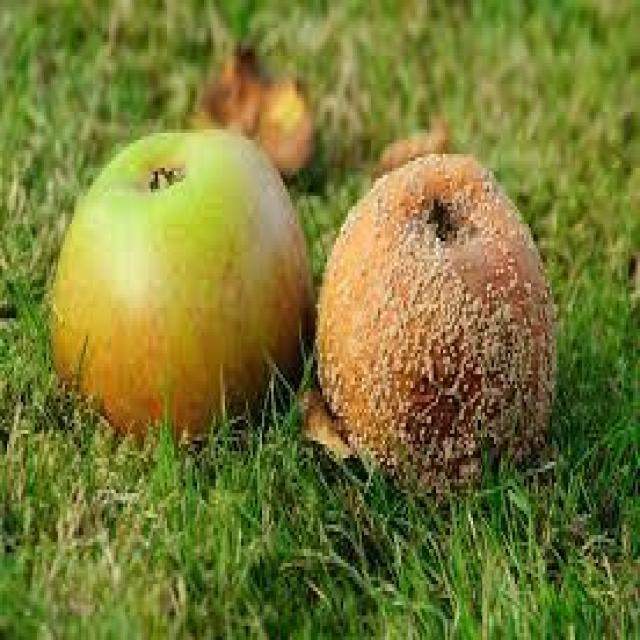maca: (308, 147, 559, 507), (47, 126, 316, 448)
